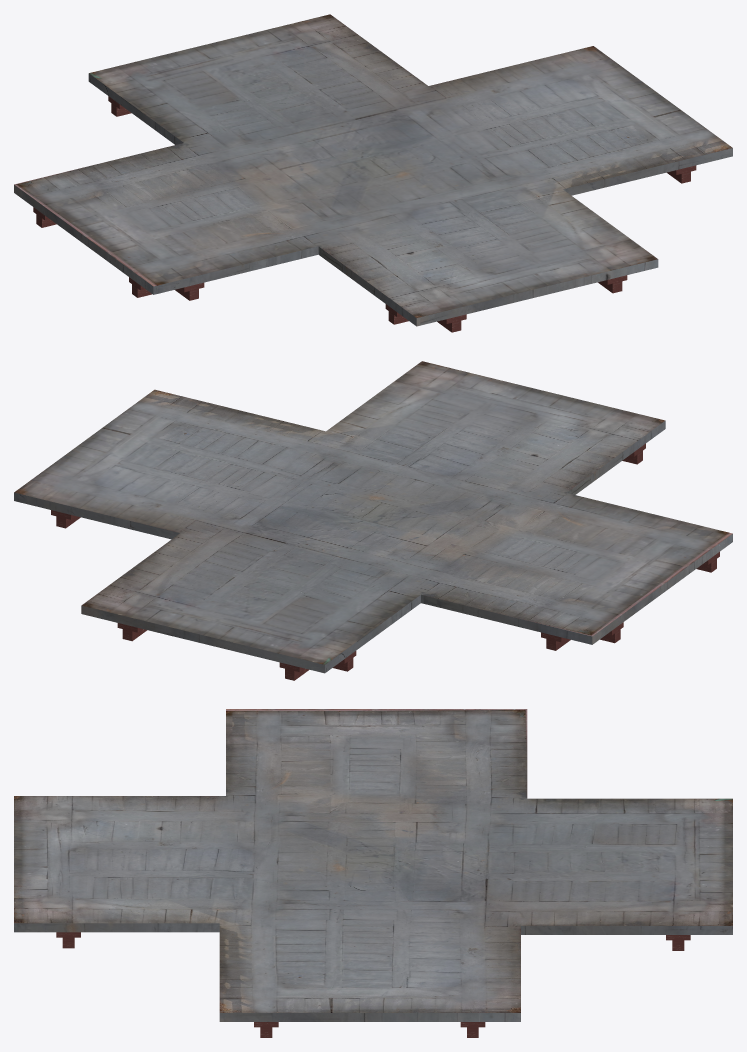
The model's file is SM_Song_Jong_Floor.fbx.
The picture shows the model from 3 angles, top to bottom: view 1: azimuth 30°, elevation 25°; view 2: azimuth 150°, elevation 25°; view 3: azimuth 270°, elevation 25°; orthographic projection. The views are drawn at different scales.
Visible parts, largest first — view 1: SM_Song_Jong_Floor; view 2: SM_Song_Jong_Floor; view 3: SM_Song_Jong_Floor.
Part boxes in pixels (x1,y1,x2,y2): SM_Song_Jong_Floor: [14, 14, 732, 332]; SM_Song_Jong_Floor: [14, 361, 732, 680]; SM_Song_Jong_Floor: [14, 709, 732, 1037].
Bounding box in the file's own units: 861 × 33.06 × 861.
